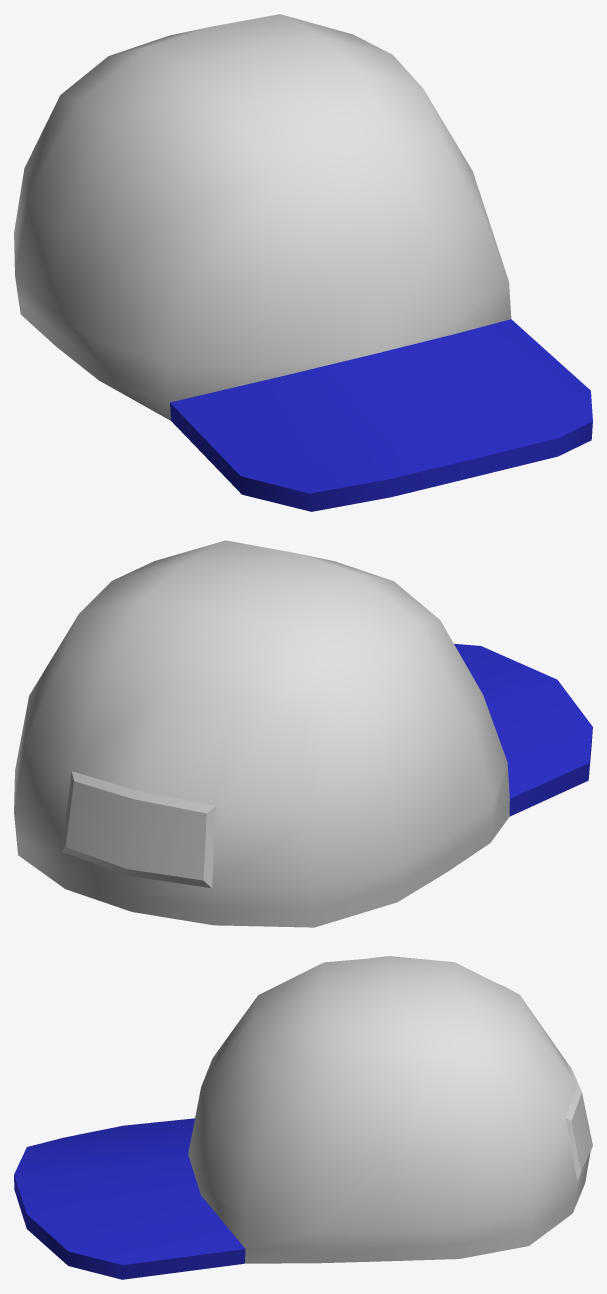
File: m_BaseballHat01.fbx
3 views of the same model, one above another, from view 1: azimuth 30°, elevation 25°; view 2: azimuth 150°, elevation 25°; view 3: azimuth 270°, elevation 25° (orthographic). The views are drawn at different scales.
Visible parts, largest first — view 1: m_BaseballHat01; view 2: m_BaseballHat01; view 3: m_BaseballHat01.
Boxes of the visible parts, box(x1,y1,x2,y2) form: m_BaseballHat01: box(14, 14, 592, 511); m_BaseballHat01: box(14, 540, 592, 927); m_BaseballHat01: box(14, 956, 592, 1279).
Bounding box in the file's own units: 4.48 × 2.99 × 6.83.
